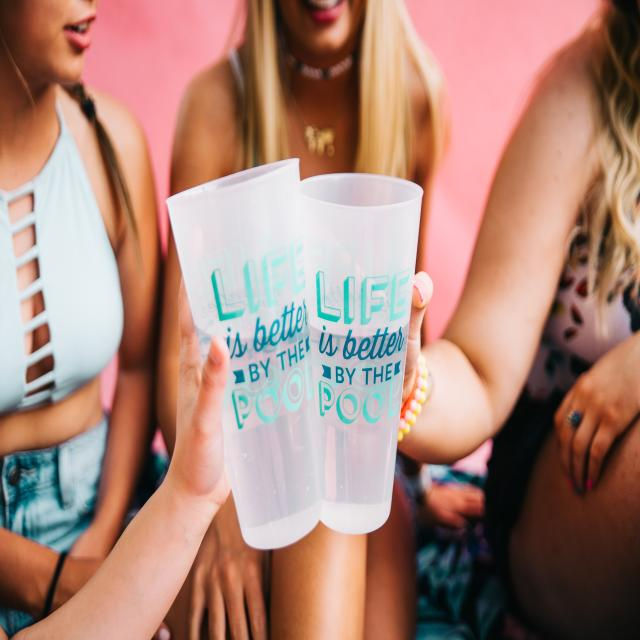cup: (168, 156, 320, 549), (293, 171, 425, 536)
